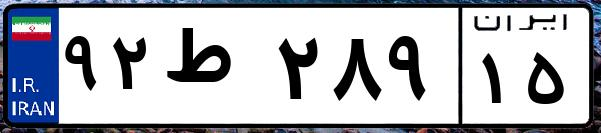1: (475, 38, 525, 113)
2: (270, 28, 330, 110), (110, 28, 158, 98)
5: (525, 38, 570, 115)
8: (330, 28, 385, 110)
9: (385, 28, 445, 110), (57, 26, 110, 100)
ط: (158, 20, 270, 120)
